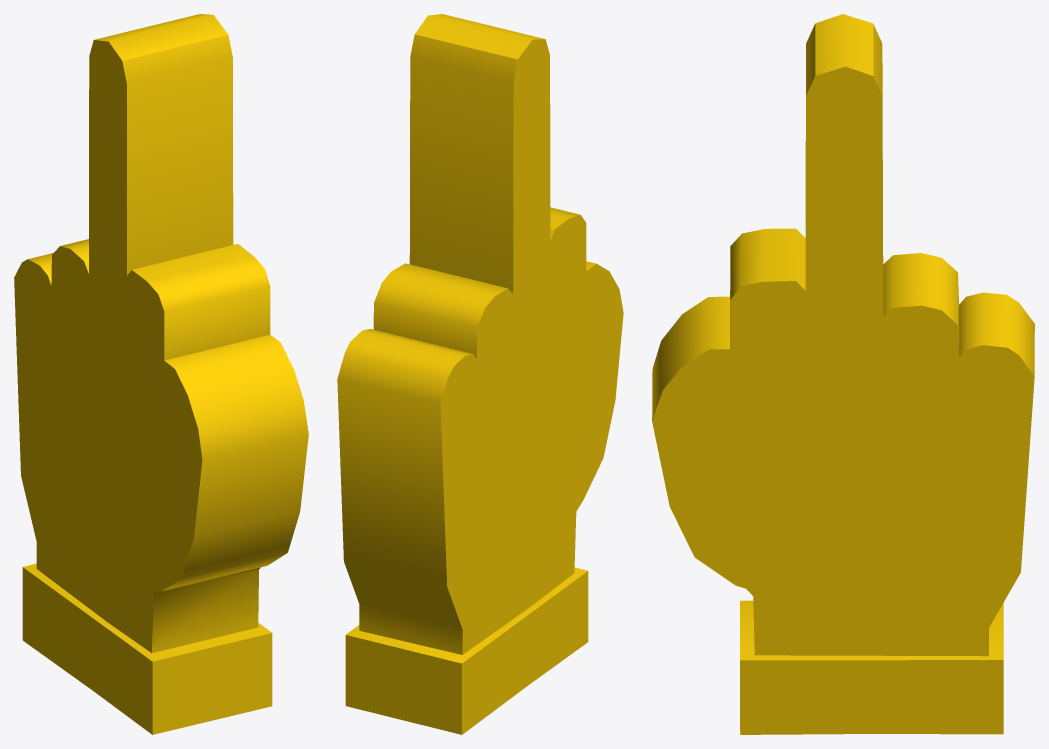
The model's file is fuck.fbx.
3 renders of one model, left to right at view 1: azimuth 30°, elevation 25°; view 2: azimuth 150°, elevation 25°; view 3: azimuth 270°, elevation 25°, orthographic. The views are drawn at different scales.
Parts seen in each view (by area): view 1: 立方体; view 2: 立方体; view 3: 立方体.
Part boxes in pixels (x1=…): 立方体: x1=14, y1=14, x2=308, y2=734; 立方体: x1=337, y1=14, x2=623, y2=734; 立方体: x1=652, y1=14, x2=1034, y2=734.
Bounding box in the file's own units: 91.9 × 481 × 251.
